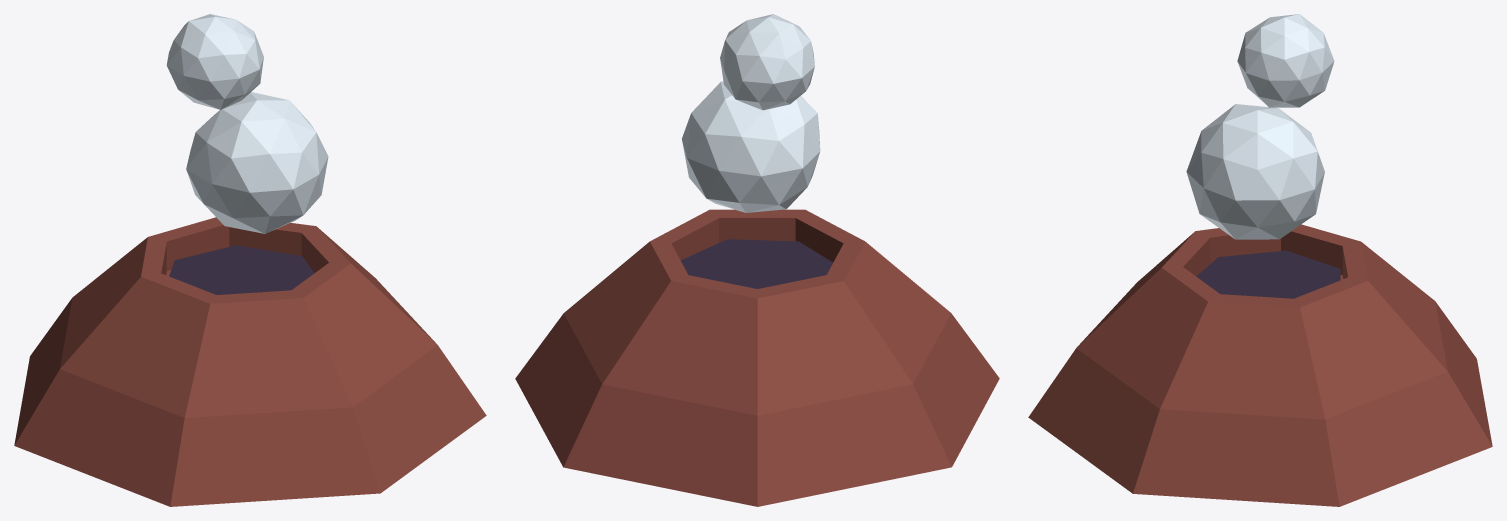
The model's file is geyser-vent.glb.
The picture shows the model from 3 angles, left to right: view 1: azimuth 30°, elevation 25°; view 2: azimuth 150°, elevation 25°; view 3: azimuth 270°, elevation 25°; orthographic projection. The views are drawn at different scales.
Visible parts, largest first — view 1: volcanic-geyser-vent; view 2: volcanic-geyser-vent; view 3: volcanic-geyser-vent.
Boxes of the visible parts, box(x1,y1,x2,y2) form: volcanic-geyser-vent: box(14, 14, 486, 506); volcanic-geyser-vent: box(515, 14, 999, 506); volcanic-geyser-vent: box(1028, 14, 1492, 506).
Size of the model in its own units: 0.8749 by 0.7898 by 0.8677.
